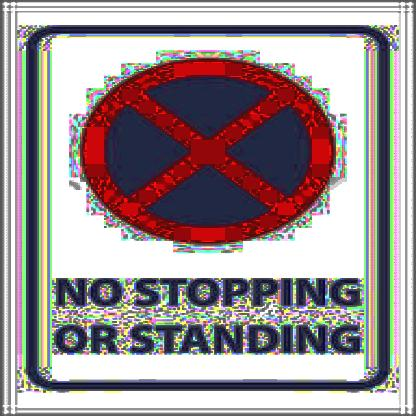No stopping: (81, 55, 334, 242)
